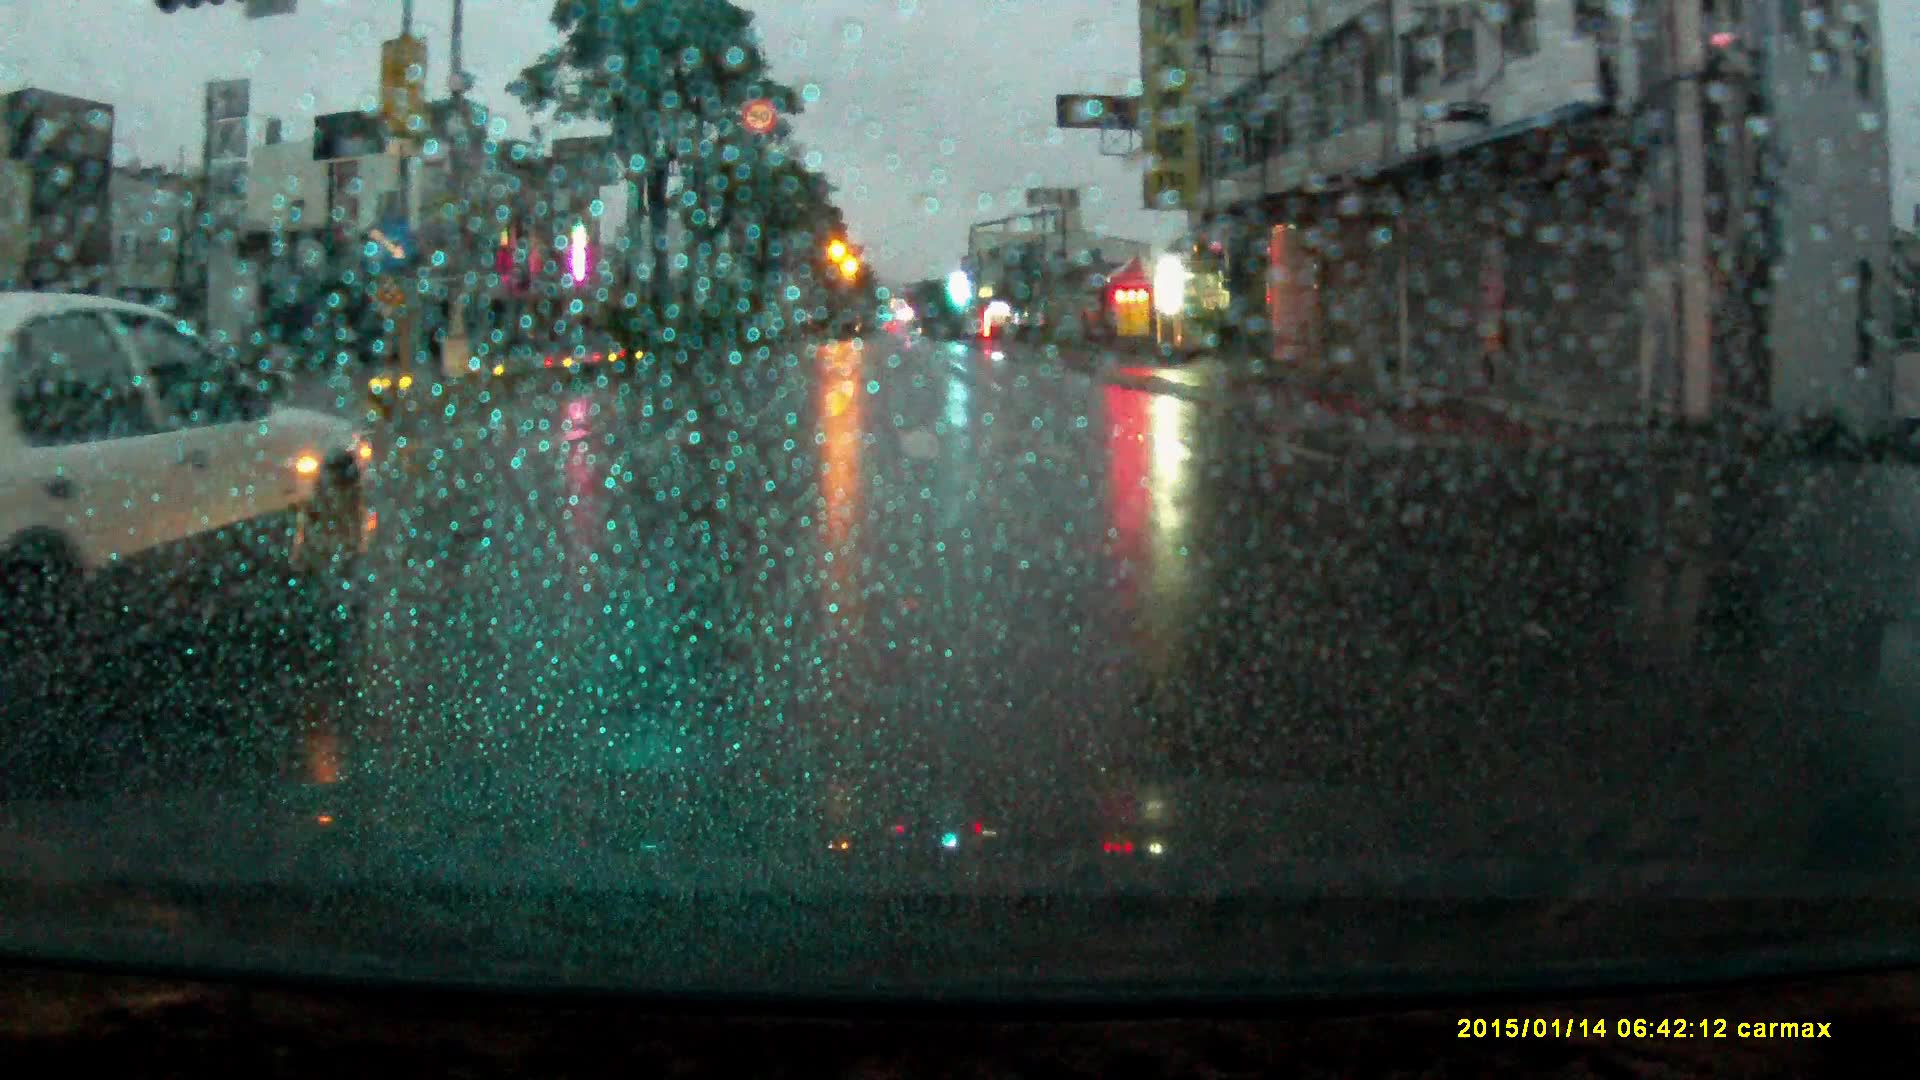vehicle: (1, 284, 384, 665)
